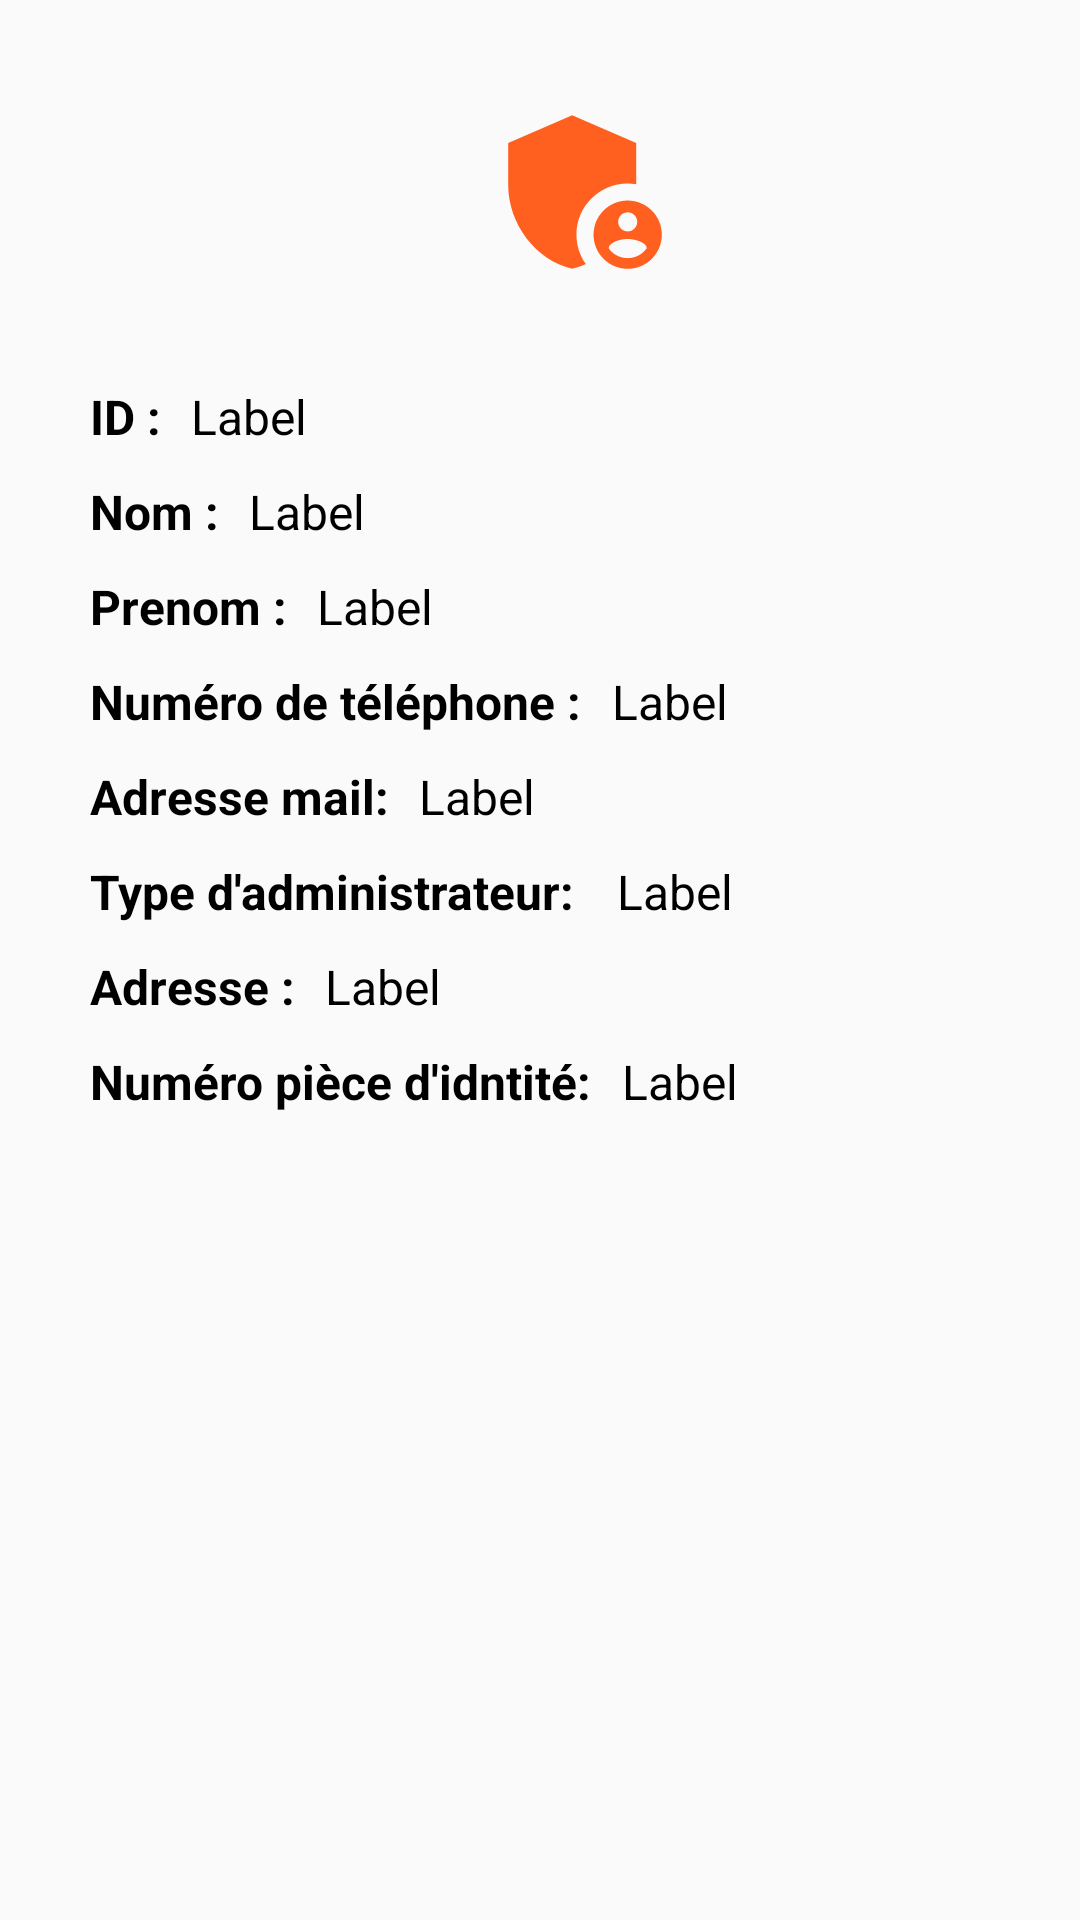

Icon click points for this 1080 x 1920 phone screenshot, format (x=x, y=y):
admin: (x=585, y=192)
